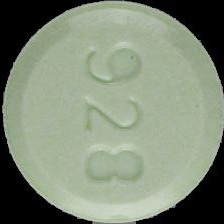54458-914: (0, 0, 224, 224)
